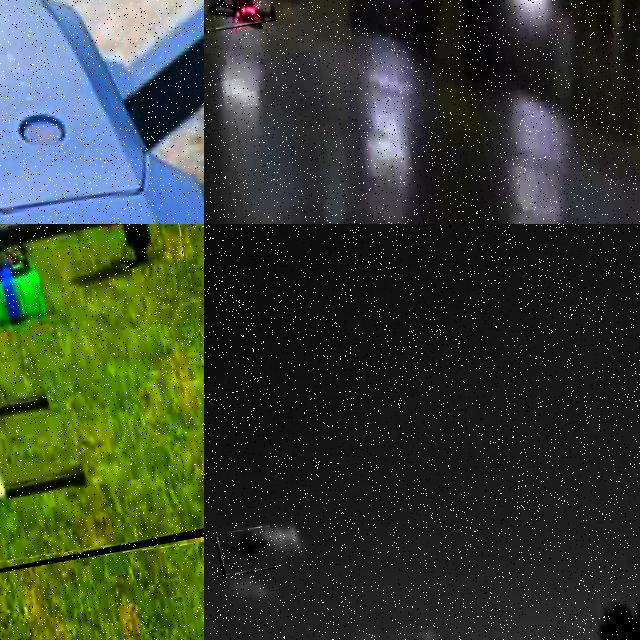drone: (0, 224, 204, 604), (0, 0, 204, 224), (215, 524, 277, 577), (204, 0, 275, 33)
